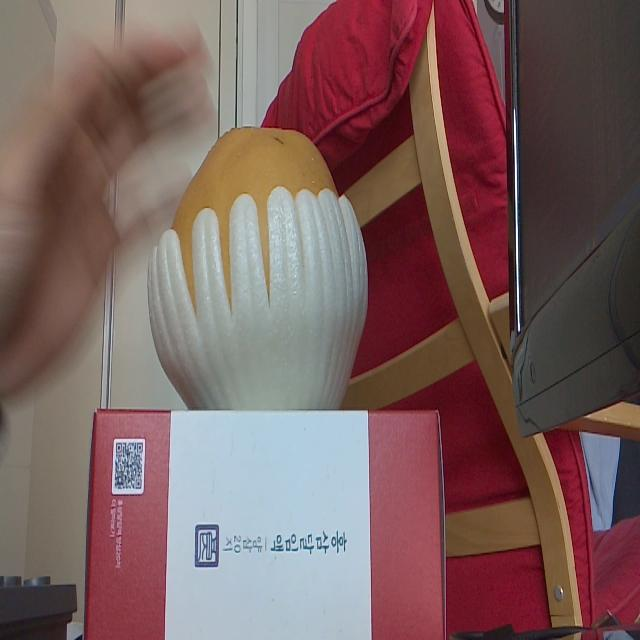pear: (150, 126, 369, 412)
